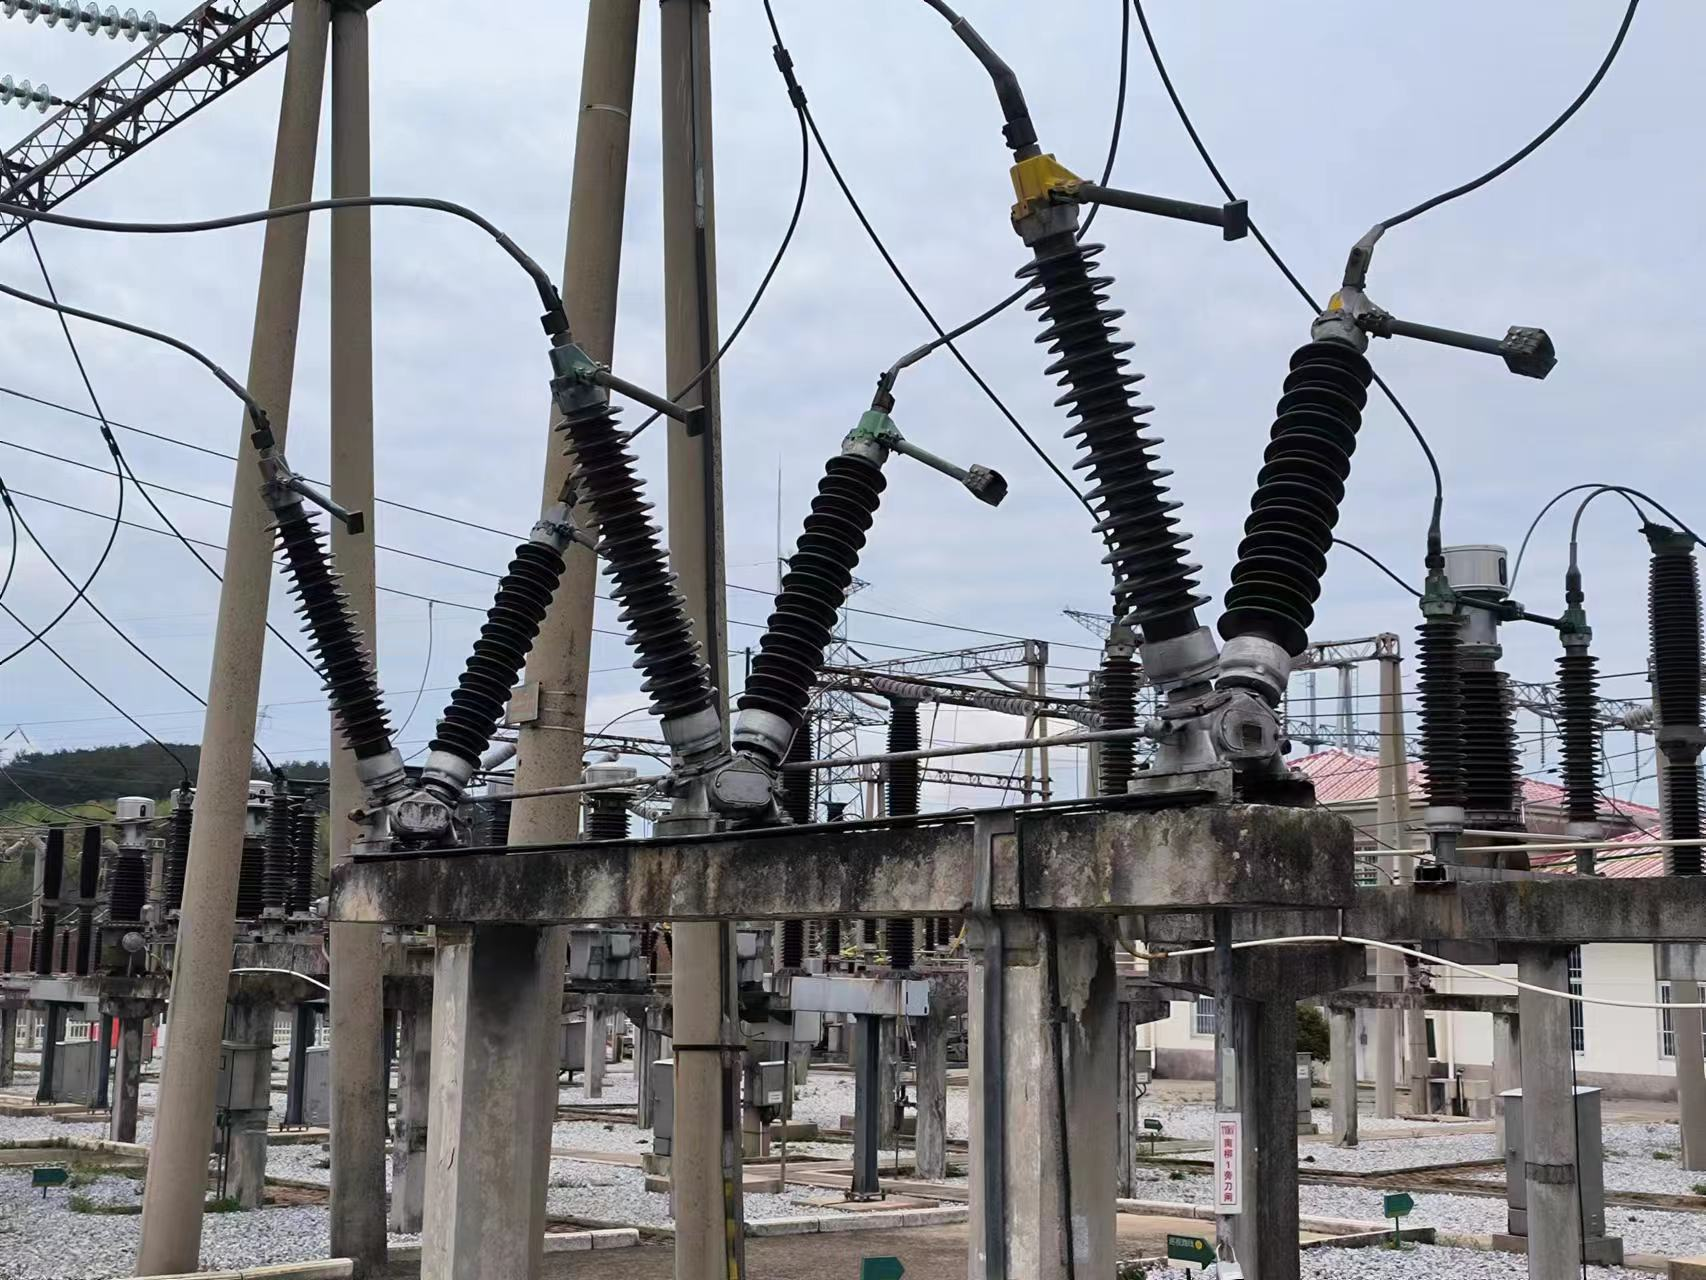Isolating switch: (1006, 143, 1412, 785), (536, 317, 1003, 799), (247, 430, 575, 835)
